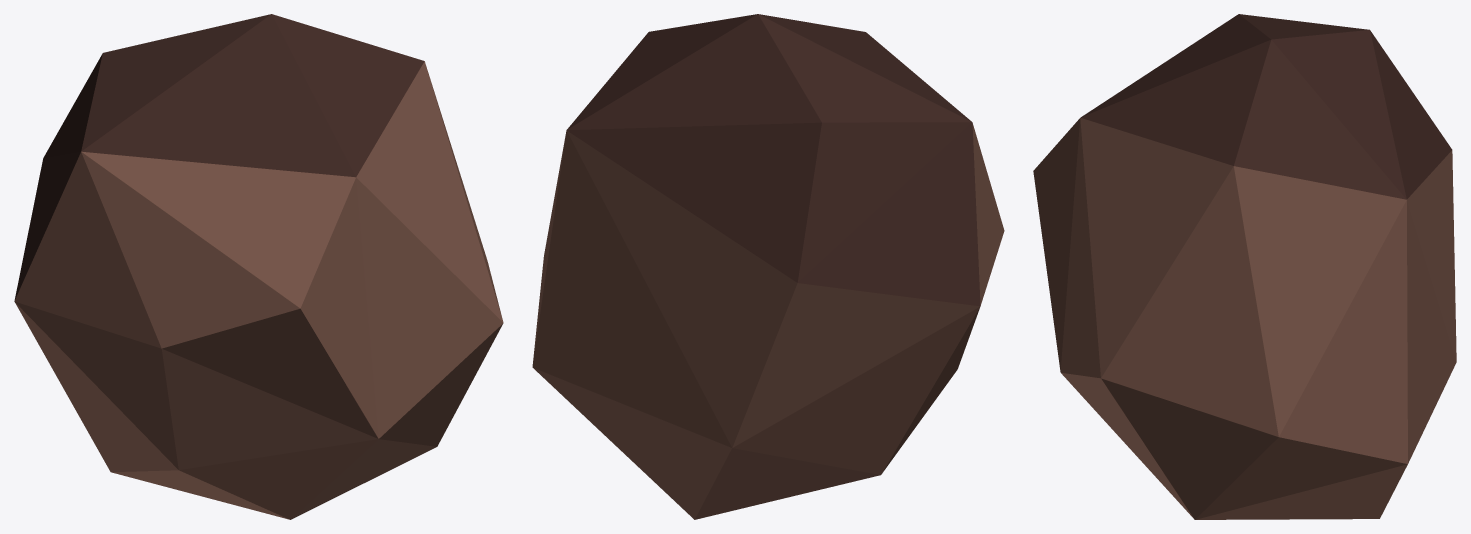
File: Brown_stone_005.fbx
3 renders of one model, left to right at view 1: azimuth 30°, elevation 25°; view 2: azimuth 150°, elevation 25°; view 3: azimuth 270°, elevation 25°, orthographic. The views are drawn at different scales.
Parts seen in each view (by area): view 1: Brown_stone_005; view 2: Brown_stone_005; view 3: Brown_stone_005.
Part boxes in pixels (x1,y1,x2,y2): Brown_stone_005: [14, 14, 503, 519]; Brown_stone_005: [532, 14, 1004, 519]; Brown_stone_005: [1033, 14, 1456, 519].
Size of the model in its own units: 123 by 100 by 124.
